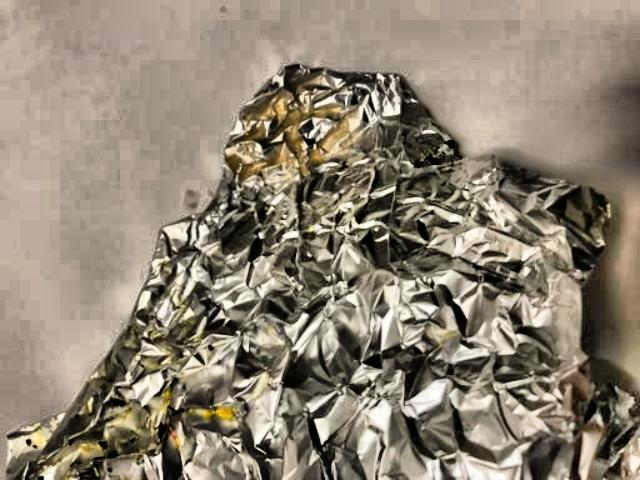Almennt: (0, 57, 640, 480)
